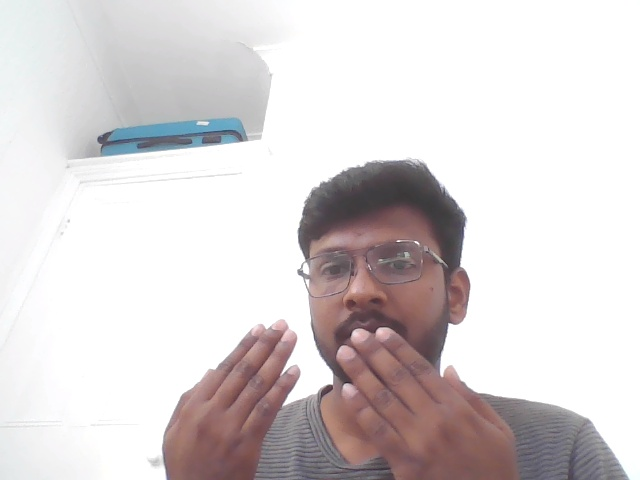Thank You: (140, 298, 537, 480)
